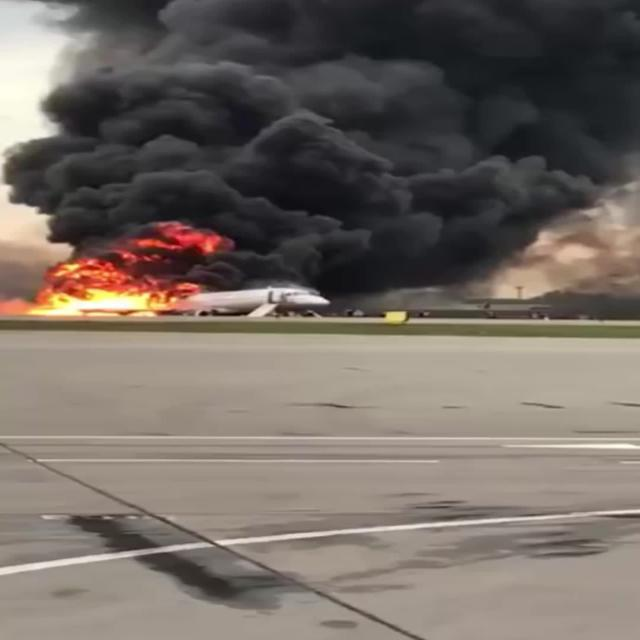Fire: (42, 254, 195, 316)
Smoke: (3, 0, 640, 252)
